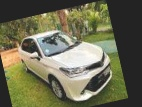car: (16, 19, 118, 107)
